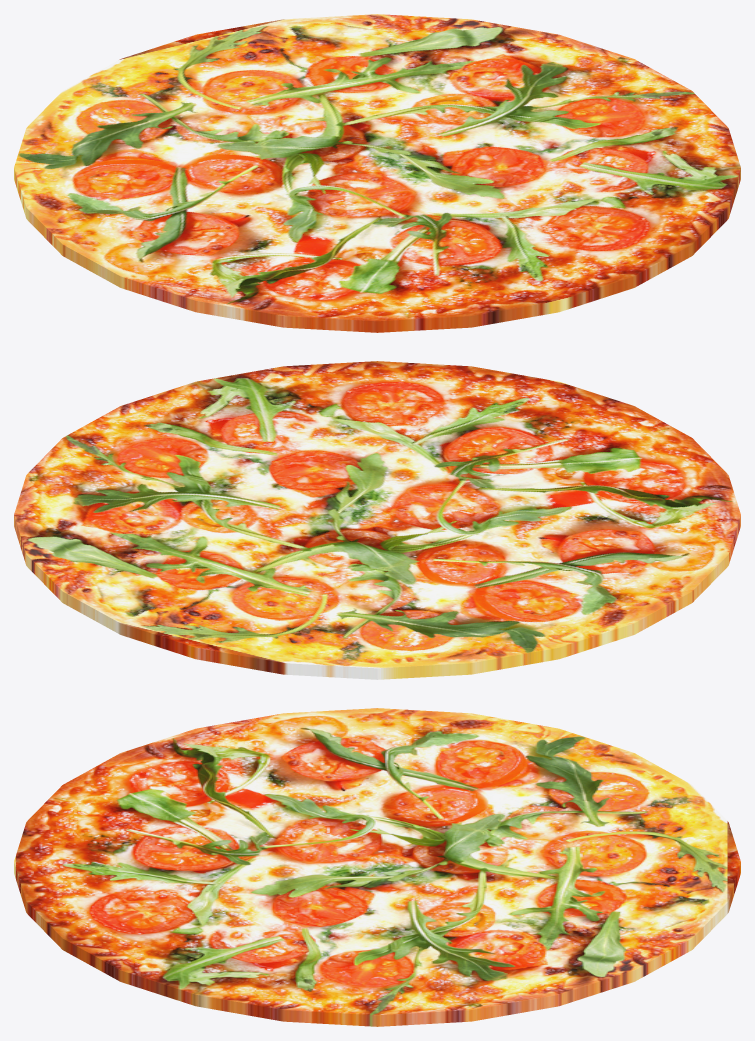
Rendered from veggies_2.glb.
3 renders of one model, top to bottom at view 1: azimuth 30°, elevation 25°; view 2: azimuth 150°, elevation 25°; view 3: azimuth 270°, elevation 25°, orthographic.
Visible parts, largest first — view 1: Material2.006; view 2: Material2.006; view 3: Material2.006.
Part boxes in pixels (<box>): Material2.006: <box>14,14,740,332</box>; Material2.006: <box>14,361,740,679</box>; Material2.006: <box>14,708,740,1026</box>.
Bounding box in the file's own units: 1.21 × 0.0212 × 1.21.
Materials: 1 (1 with a texture image).
